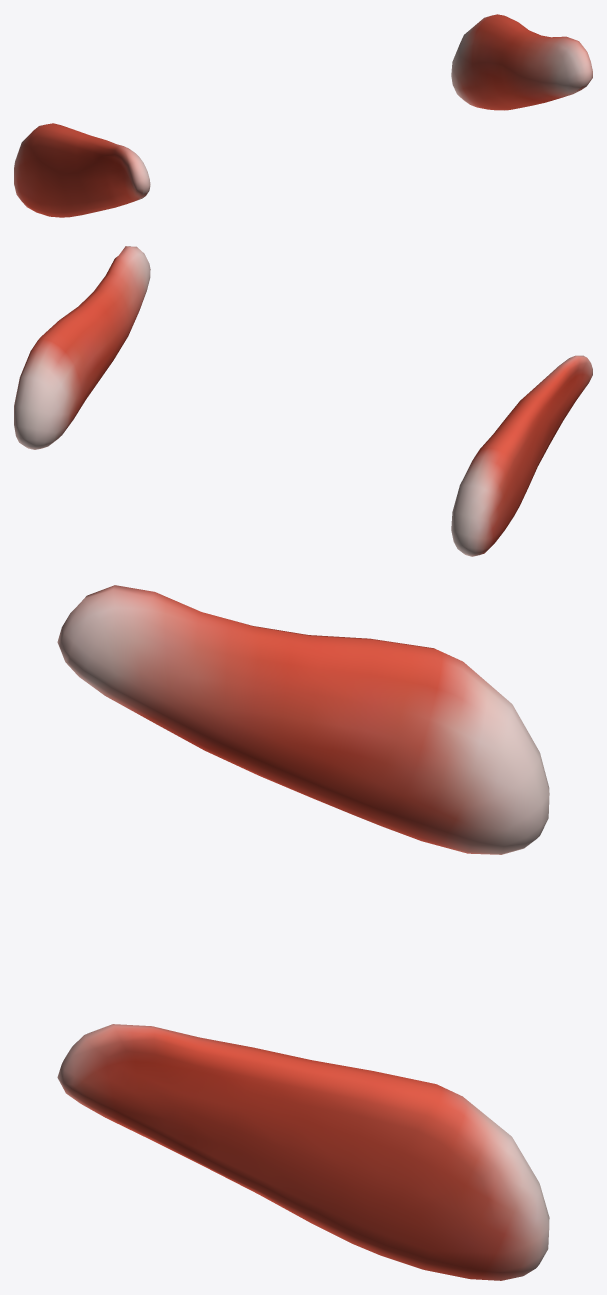
File: musculus pterygoideus medialis.fbx
The picture shows the model from 3 angles, top to bottom: view 1: azimuth 30°, elevation 25°; view 2: azimuth 150°, elevation 25°; view 3: azimuth 270°, elevation 25°; orthographic projection. The views are drawn at different scales.
Parts seen in each view (by area): view 1: musculus pterygoideus medialis; view 2: musculus pterygoideus medialis; view 3: musculus pterygoideus medialis.
Boxes of the visible parts, box(x1,y1,x2,y2) form: musculus pterygoideus medialis: box(14, 14, 592, 217); musculus pterygoideus medialis: box(14, 246, 592, 556); musculus pterygoideus medialis: box(57, 585, 549, 1280).
Bounding box in the file's own units: 20.5 × 5.27 × 9.11.
